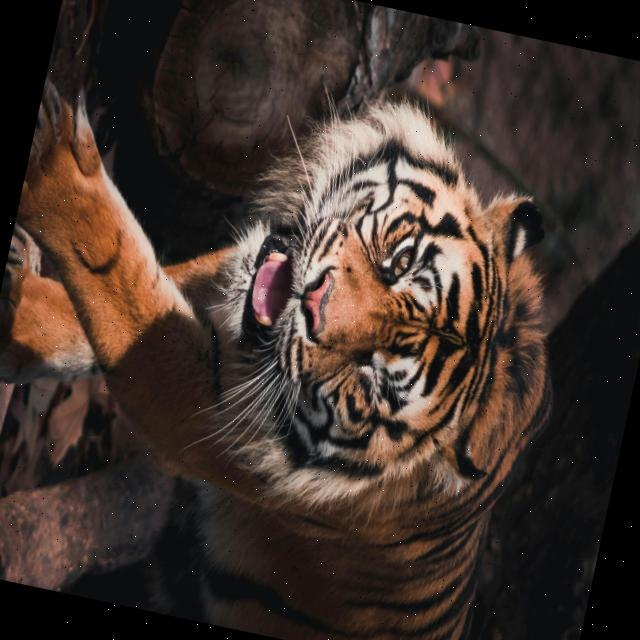Tiger: (0, 21, 613, 640)
